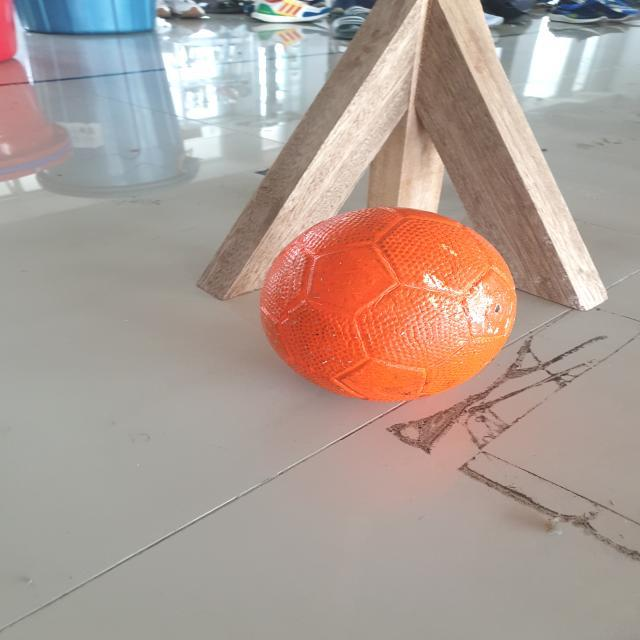bola: (227, 197, 550, 414)
